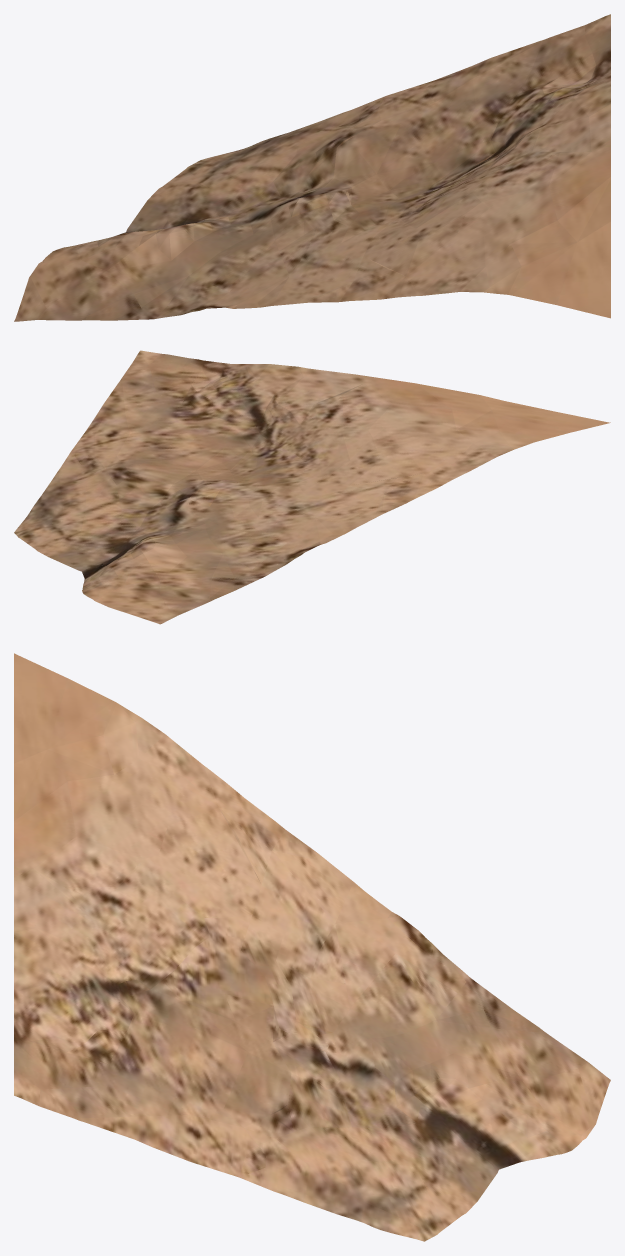
3 renders of one model, top to bottom at view 1: azimuth 90°, elevation 25°; view 2: azimuth 150°, elevation 25°; view 3: azimuth 270°, elevation 25°, orthographic. The views are drawn at different scales.
Size of the model in its own units: 3.75 by 1.01 by 2.53.
Materials: 1 (1 with a texture image).
